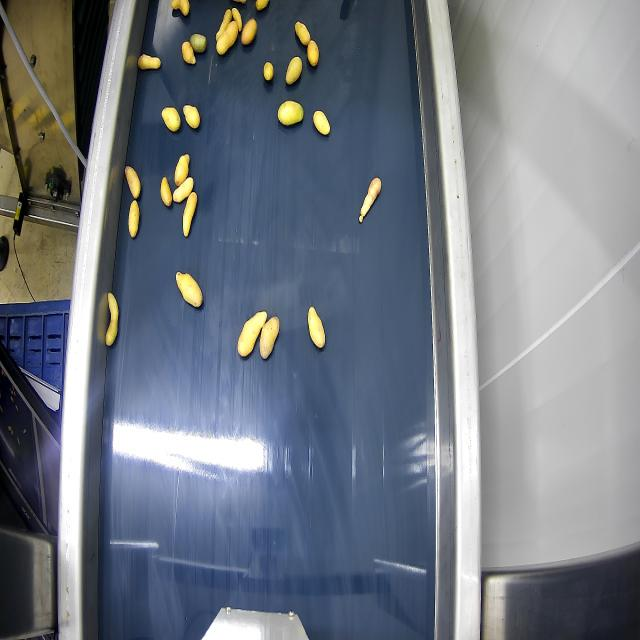Baby Potato: (238, 312, 266, 357), (359, 177, 380, 223), (176, 272, 202, 307), (260, 317, 280, 359), (216, 21, 238, 55), (182, 191, 198, 237), (308, 306, 325, 348), (105, 293, 118, 346), (278, 101, 303, 126), (173, 176, 193, 202), (216, 9, 232, 41), (174, 154, 189, 186), (125, 167, 140, 199), (286, 56, 302, 85), (128, 200, 140, 238), (162, 107, 180, 131), (183, 105, 200, 128), (241, 19, 256, 45), (313, 111, 329, 135), (294, 22, 310, 46), (160, 176, 172, 207), (189, 33, 206, 53), (138, 55, 160, 69), (182, 41, 195, 64), (171, 0, 189, 16), (307, 40, 318, 66), (232, 8, 242, 31), (263, 62, 273, 81), (256, 0, 268, 10), (234, 0, 246, 4)
